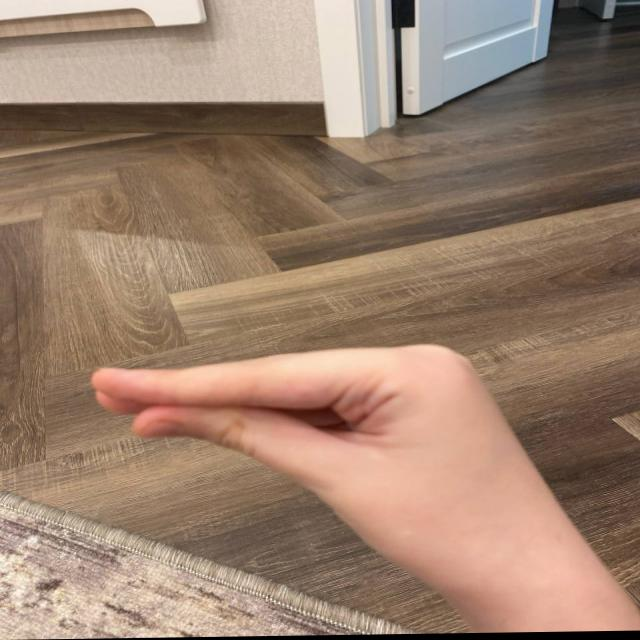zh: (69, 325, 535, 523)
